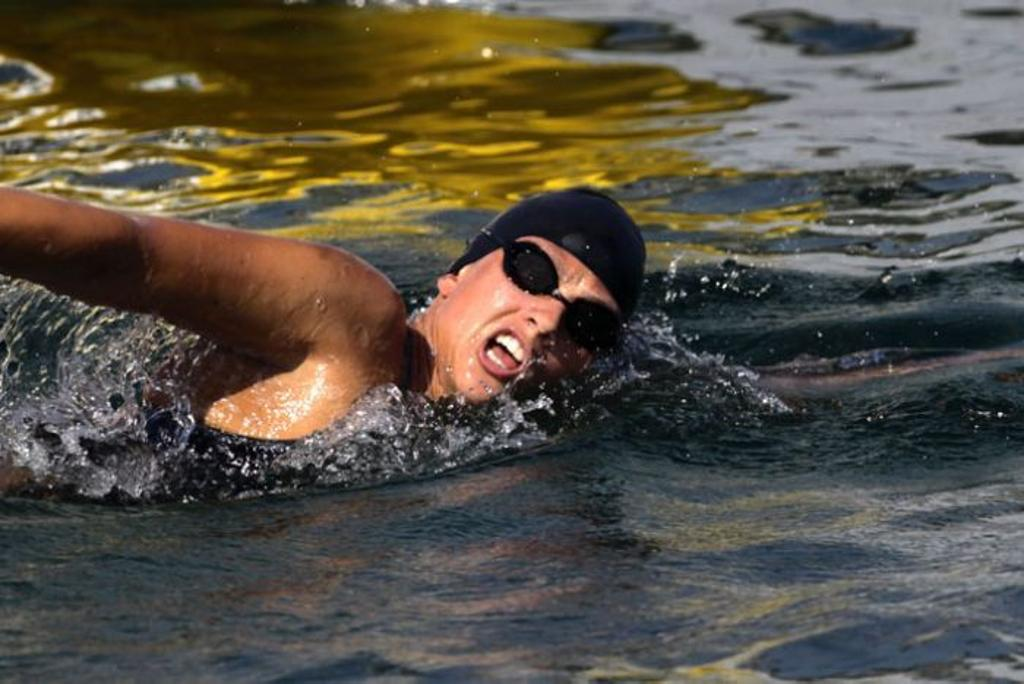face: (454, 258, 624, 398)
